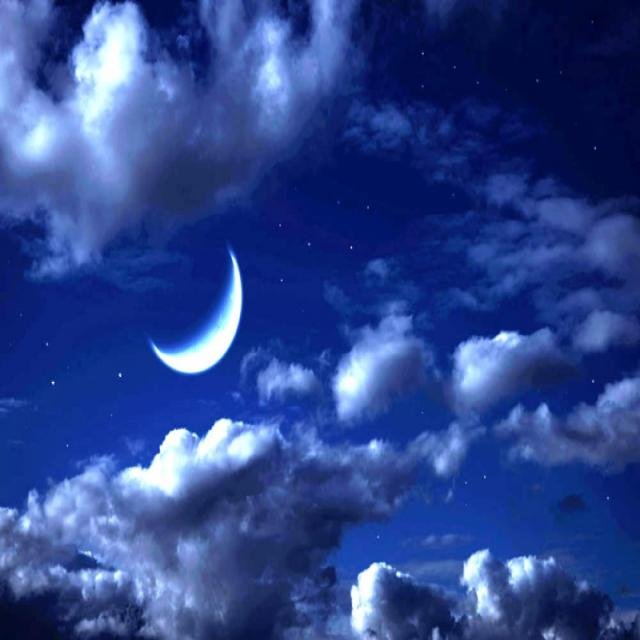moon: (141, 226, 250, 380)
